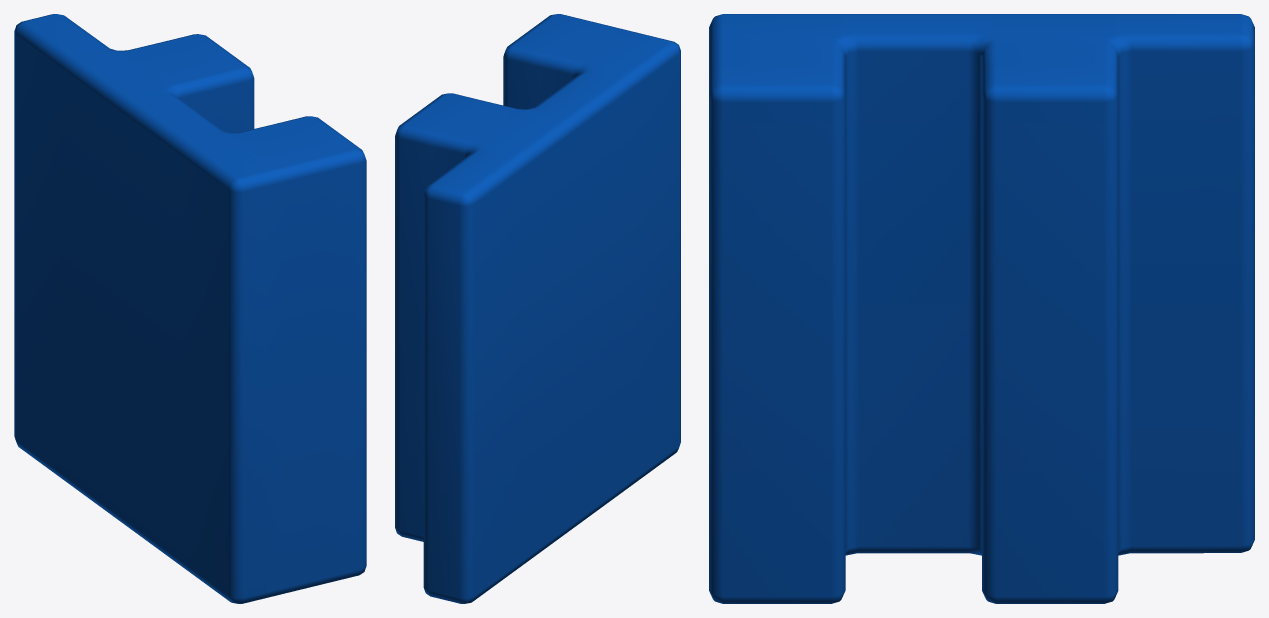
File: Combined.fbx
3 views of the same model, side by side, from view 1: azimuth 30°, elevation 25°; view 2: azimuth 150°, elevation 25°; view 3: azimuth 270°, elevation 25° (orthographic). The views are drawn at different scales.
Parts seen in each view (by area): view 1: DarkBlue; view 2: DarkBlue; view 3: DarkBlue.
Boxes of the visible parts, x1,y1,x2,y2 form: DarkBlue: (14, 14, 366, 603); DarkBlue: (395, 14, 680, 603); DarkBlue: (709, 14, 1254, 603).
Bounding box in the file's own units: 0.3531 × 1.05 × 1.
Materials: 1 (1 with a texture image).
